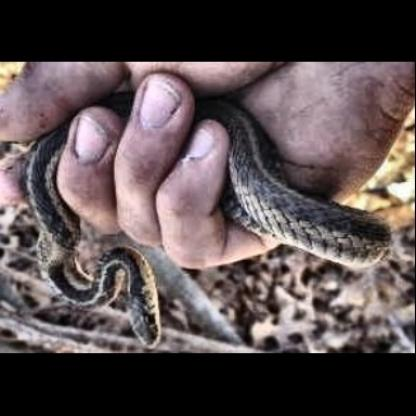Snake: (18, 102, 393, 346)
